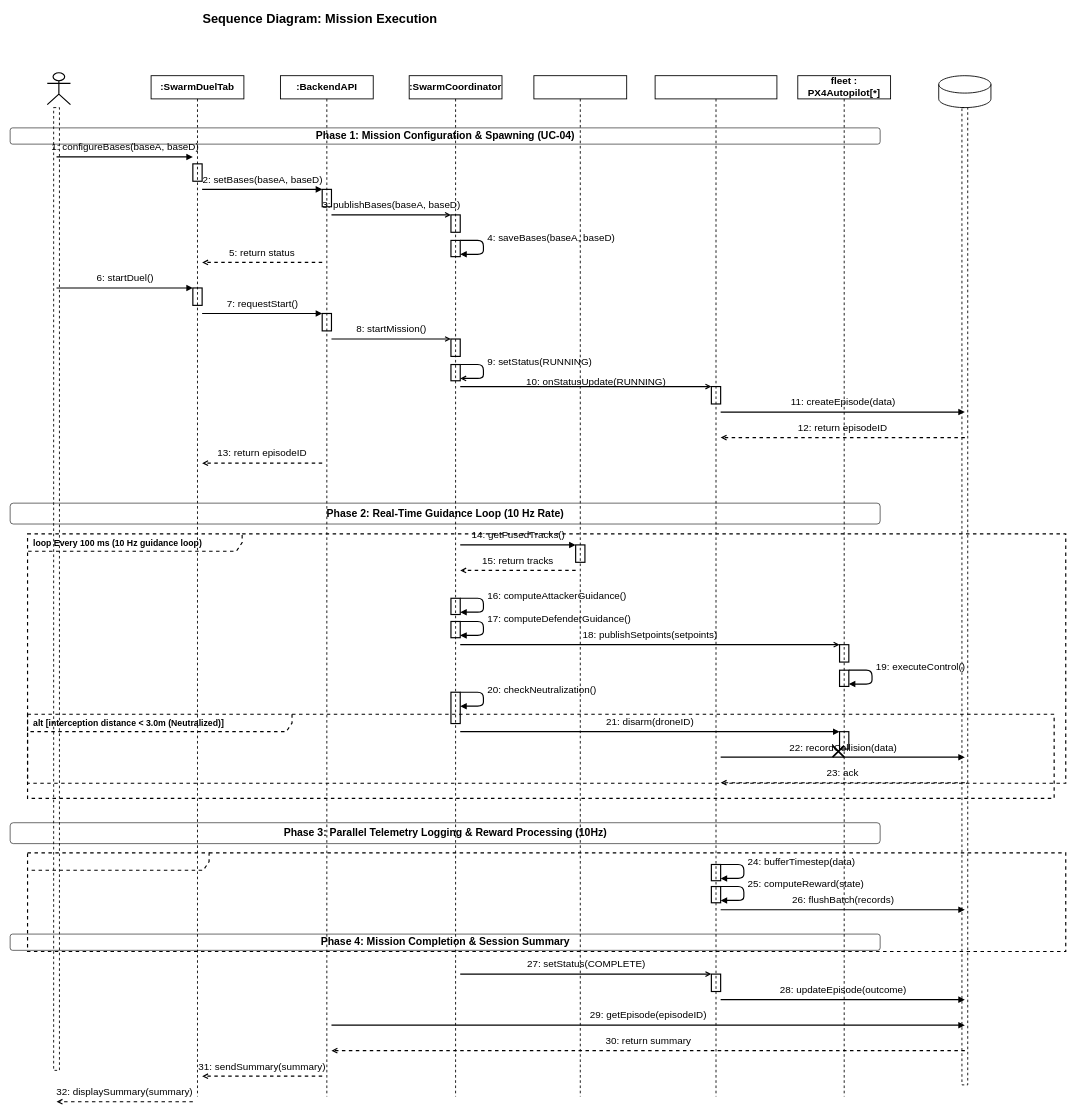
The diagram is 1076 pixels wide and 1117 high, and some of its shapes have lost their labels. Each missing label, with the box of its shape:
:FusionEngine: (533, 75, 627, 1097)
:GCS_Operator: (46, 72, 71, 105)
:TelemetryDB: (938, 75, 991, 108)
:TelemetryLoggerNode: (654, 75, 777, 1097)
loop Every 100ms (10Hz telemetry): (27, 852, 1066, 952)
